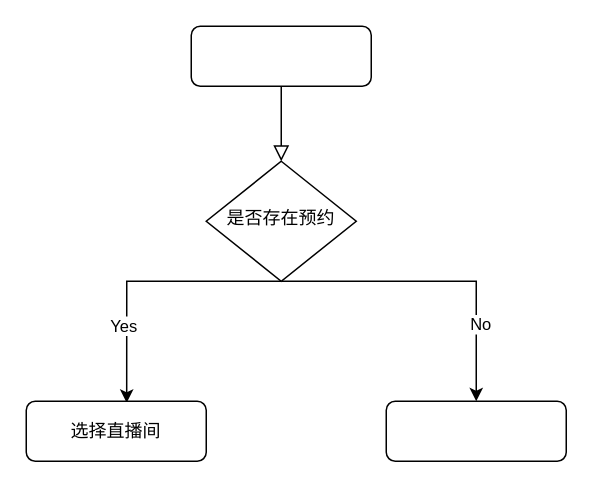
This 593x488 diagram has some shape labels left out. The shapes that lost their labels are listed below. From the top down, each one's box as (x1, y1, x2, y2) in pixels, then its label:
(190, 25, 371, 86): 点击开始直播
(385, 400, 566, 461): 开始直播
